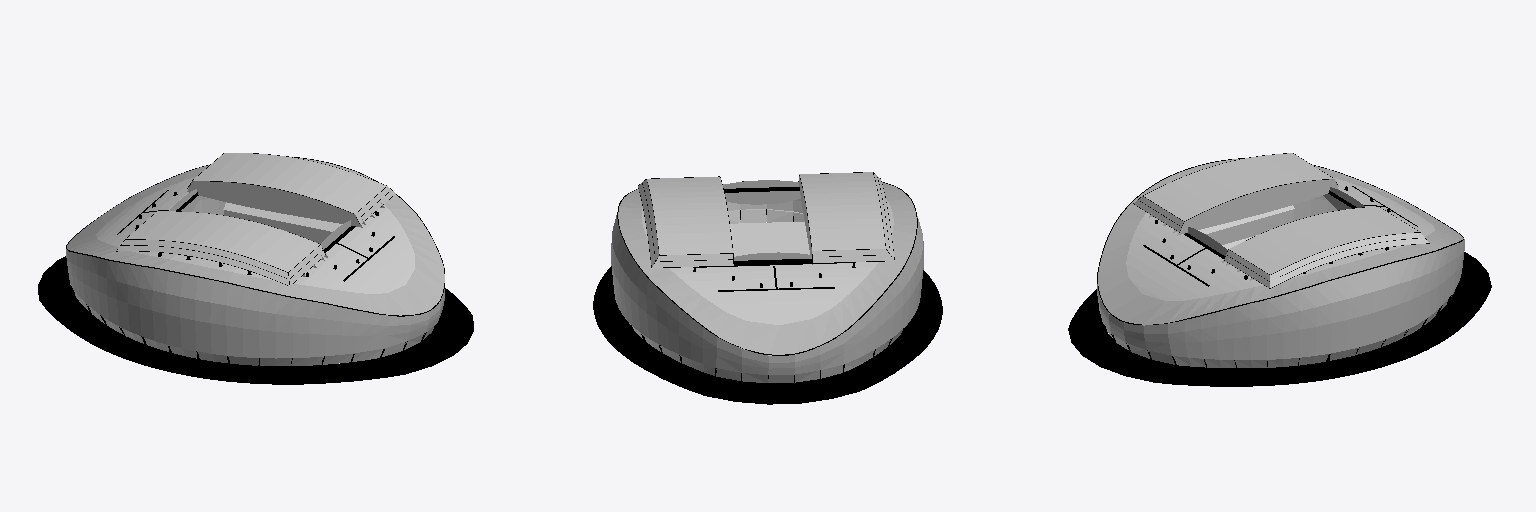
Rendered from sin_nombre.obj.
The picture shows the model from 3 angles: view 1: azimuth 30°, elevation 25°; view 2: azimuth 150°, elevation 25°; view 3: azimuth 270°, elevation 25°; orthographic projection.
Visible parts, largest first — view 1: Plane03_Material_#60_0, Object_Material_#31_0, Plane03_Material_#56_0, Plane03_Material_#65_0, Object01_Material_#62_0, Object03_Material_#62_0, Balka01_Material_#58_0, Shape006_Material_#31_0, Object04_Material_#58_0; view 2: Plane03_Material_#60_0, Plane03_Material_#56_0, Object_Material_#31_0, Plane03_Material_#65_0, Object03_Material_#62_0, Object01_Material_#62_0, Object04_Material_#58_0, Shape03_Material_#31_0; view 3: Plane03_Material_#60_0, Object_Material_#31_0, Plane03_Material_#56_0, Plane03_Material_#65_0, Object03_Material_#62_0, Object01_Material_#62_0, Balka_Material_#58_0, Object04_Material_#58_0, Shape006_Material_#31_0.
Boxes of the visible parts, x1,y1,x2,y2 form: Plane03_Material_#60_0: [66, 196, 444, 365]; Object_Material_#31_0: [38, 256, 473, 384]; Plane03_Material_#56_0: [67, 157, 444, 315]; Plane03_Material_#65_0: [96, 176, 414, 293]; Object01_Material_#62_0: [117, 211, 324, 285]; Object03_Material_#62_0: [188, 153, 395, 223]; Balka01_Material_#58_0: [187, 181, 384, 227]; Shape006_Material_#31_0: [66, 156, 444, 316]; Object04_Material_#58_0: [169, 189, 350, 249]; Plane03_Material_#60_0: [611, 198, 923, 382]; Plane03_Material_#56_0: [618, 182, 916, 355]; Object_Material_#31_0: [593, 266, 942, 404]; Plane03_Material_#65_0: [642, 184, 893, 324]; Object03_Material_#62_0: [638, 177, 733, 267]; Object01_Material_#62_0: [799, 172, 894, 262]; Object04_Material_#58_0: [723, 180, 811, 260]; Shape03_Material_#31_0: [693, 187, 855, 267]; Plane03_Material_#60_0: [1097, 196, 1464, 367]; Object_Material_#31_0: [1068, 252, 1491, 386]; Plane03_Material_#56_0: [1098, 159, 1463, 325]; Plane03_Material_#65_0: [1126, 177, 1434, 300]; Object03_Material_#62_0: [1224, 207, 1428, 287]; Object01_Material_#62_0: [1134, 153, 1338, 231]; Balka_Material_#58_0: [1149, 179, 1338, 235]; Object04_Material_#58_0: [1188, 187, 1364, 255]; Shape006_Material_#31_0: [1097, 158, 1463, 324].
Bounding box in the file's own units: 3.39 × 1.04 × 3.83.